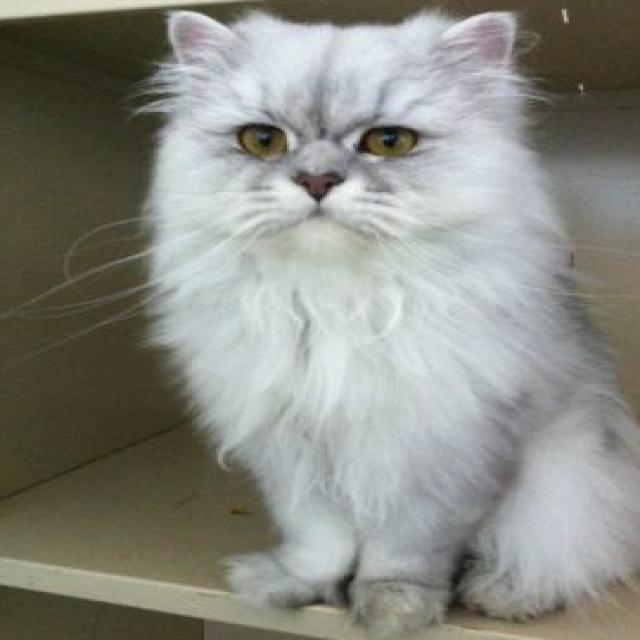Persian: (132, 3, 640, 636)
